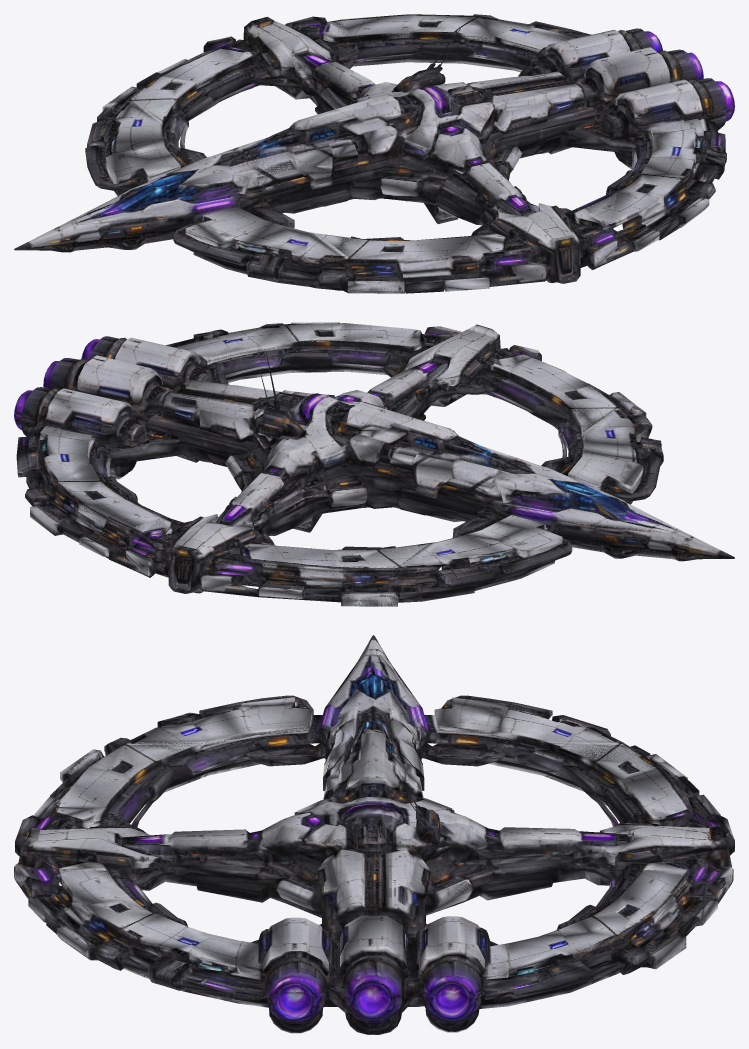
Rendered from detailed-14.glb.
The picture shows the model from 3 angles, top to bottom: view 1: azimuth 30°, elevation 25°; view 2: azimuth 150°, elevation 25°; view 3: azimuth 270°, elevation 25°; orthographic projection. The views are drawn at different scales.
Visible parts, largest first — view 1: debris_1_1, debris_2_1, debris_1_0, debris_2_0, debris_0_1, hull, debris_0_0; view 2: debris_1_1, debris_2_1, debris_1_0, debris_2_0, debris_0_1, hull, debris_0_0; view 3: debris_1_1, debris_2_1, debris_2_0, debris_1_0, hull, debris_0_1, debris_0_0.
Part boxes in pixels (x1,y1,x2,y2): debris_1_1: [131, 16, 605, 263]; debris_2_1: [331, 14, 734, 226]; debris_1_0: [113, 16, 618, 293]; debris_2_0: [315, 14, 734, 252]; debris_0_1: [71, 98, 351, 262]; hull: [15, 17, 734, 293]; debris_0_0: [14, 100, 369, 293]; debris_1_1: [141, 324, 617, 572]; debris_2_1: [14, 323, 416, 535]; debris_1_0: [125, 326, 634, 606]; debris_2_0: [14, 322, 429, 566]; debris_0_1: [395, 406, 677, 572]; hull: [14, 327, 731, 606]; debris_0_0: [378, 405, 734, 606]; debris_1_1: [20, 715, 727, 874]; debris_2_1: [59, 774, 688, 1001]; debris_2_0: [27, 875, 723, 1034]; debris_1_0: [14, 748, 734, 908]; hull: [16, 636, 731, 1006]; debris_0_1: [122, 655, 626, 748]; debris_0_0: [81, 635, 666, 778].
Bounding box in the file's own units: 1 × 0.2516 × 0.8036.
Materials: 2 (1 with a texture image).
